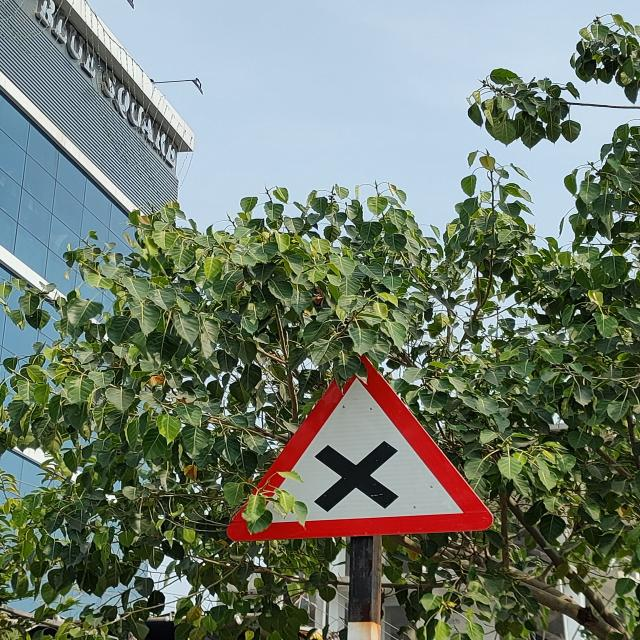CROSS_ROAD: (211, 330, 497, 554)
